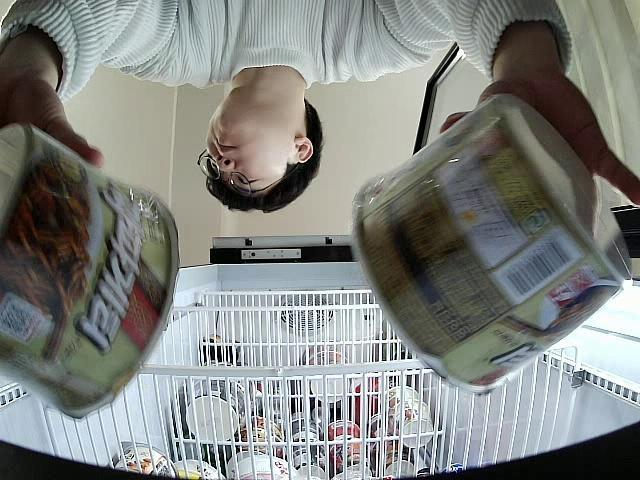03_chapagetti_L: (351, 94, 632, 398), (0, 122, 179, 421)
